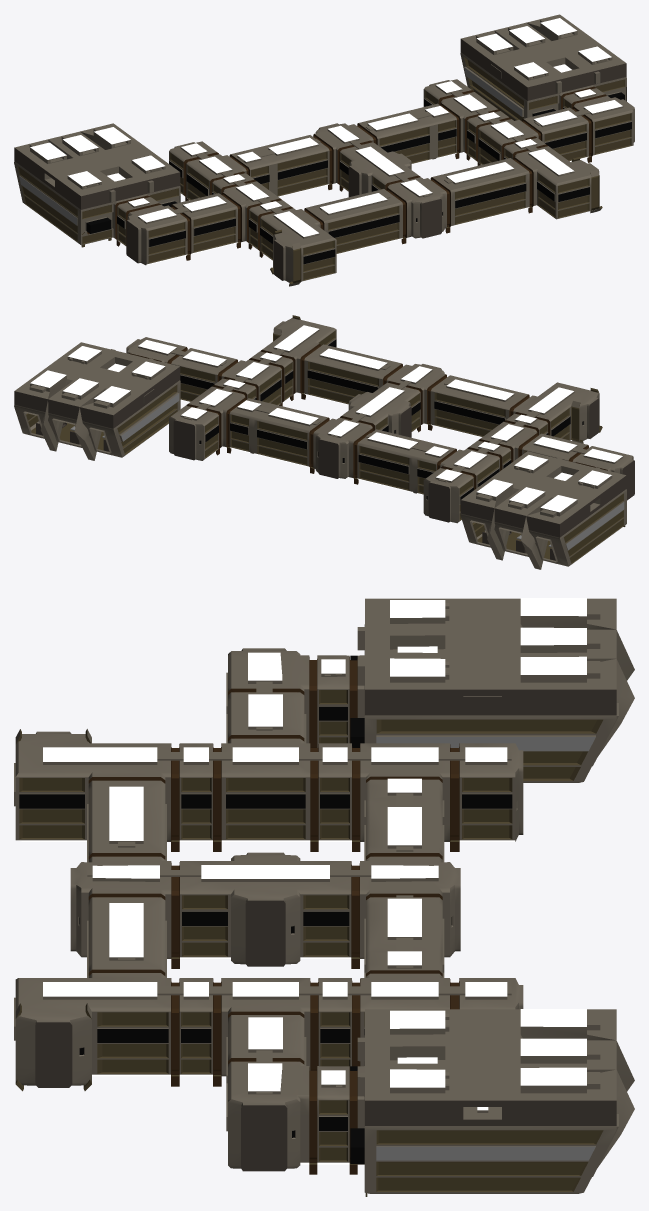
3 views of the same model, one above another, from view 1: azimuth 30°, elevation 25°; view 2: azimuth 150°, elevation 25°; view 3: azimuth 270°, elevation 25° (orthographic). The views are drawn at different scales.
Parts seen in each view (by area): view 1: HALL; view 2: HALL, Chairs; view 3: HALL.
Part boxes in pixels (<box>): HALL: <box>14,14,634,286</box>; HALL: <box>14,315,634,569</box>; Chairs: <box>36,422,555,560</box>; HALL: <box>14,598,634,1196</box>.
Size of what is drawn, in the model's own units: 62.66 by 6.85 by 32.67.
